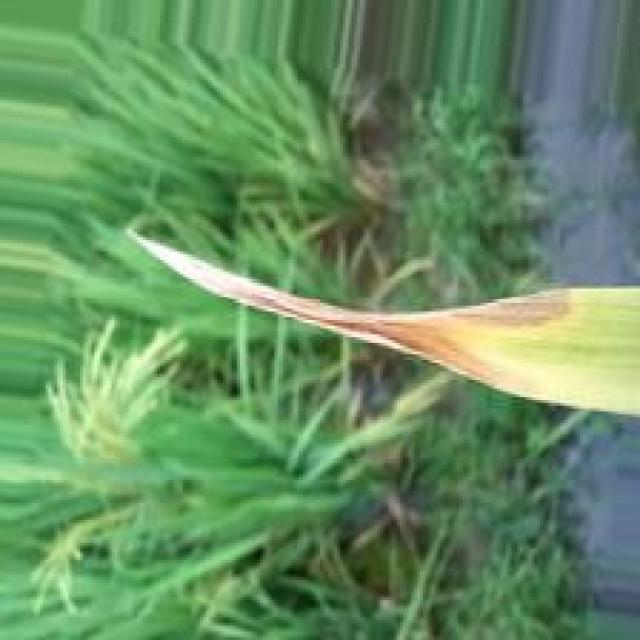Rice False Smut: (190, 269, 577, 387)
